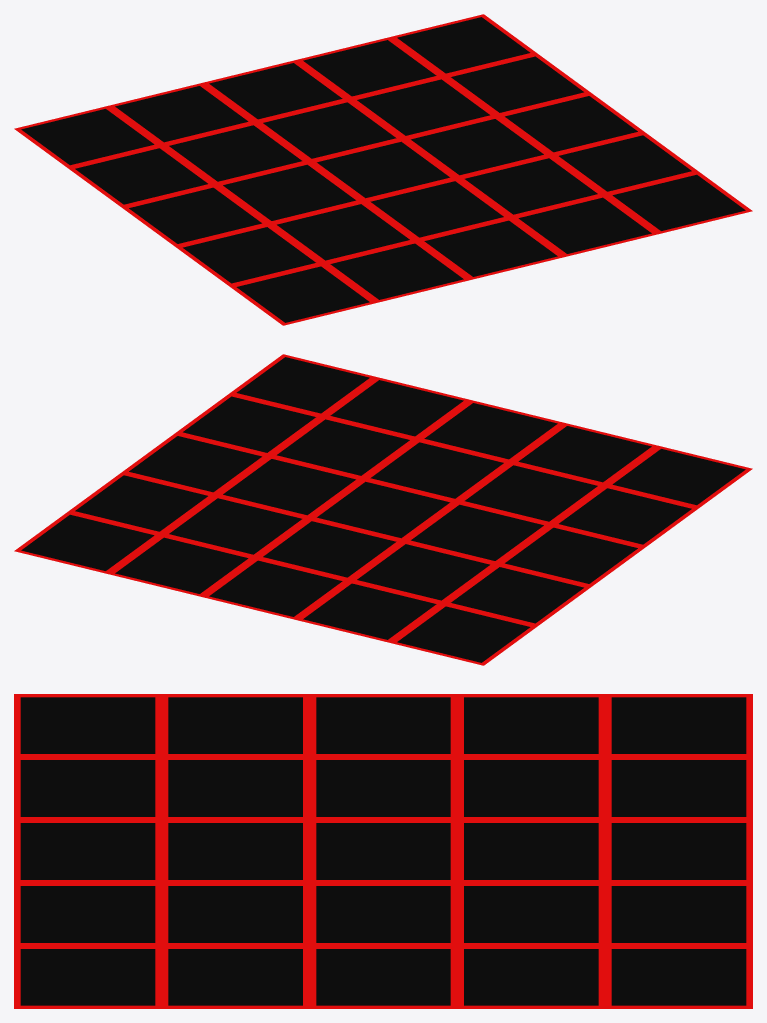
Rendered from Resized Grid Floor.FBX.
The picture shows the model from 3 angles, top to bottom: view 1: azimuth 30°, elevation 25°; view 2: azimuth 150°, elevation 25°; view 3: azimuth 270°, elevation 25°; orthographic projection. The views are drawn at different scales.
Visible parts, largest first — view 1: Grid Floor; view 2: Grid Floor; view 3: Grid Floor.
Part boxes in pixels (x1=…): Grid Floor: x1=14, y1=14, x2=752, y2=325; Grid Floor: x1=14, y1=354, x2=752, y2=665; Grid Floor: x1=14, y1=694, x2=752, y2=1008.
Size of the model in its own units: 964 by 5.68e-14 by 957.
